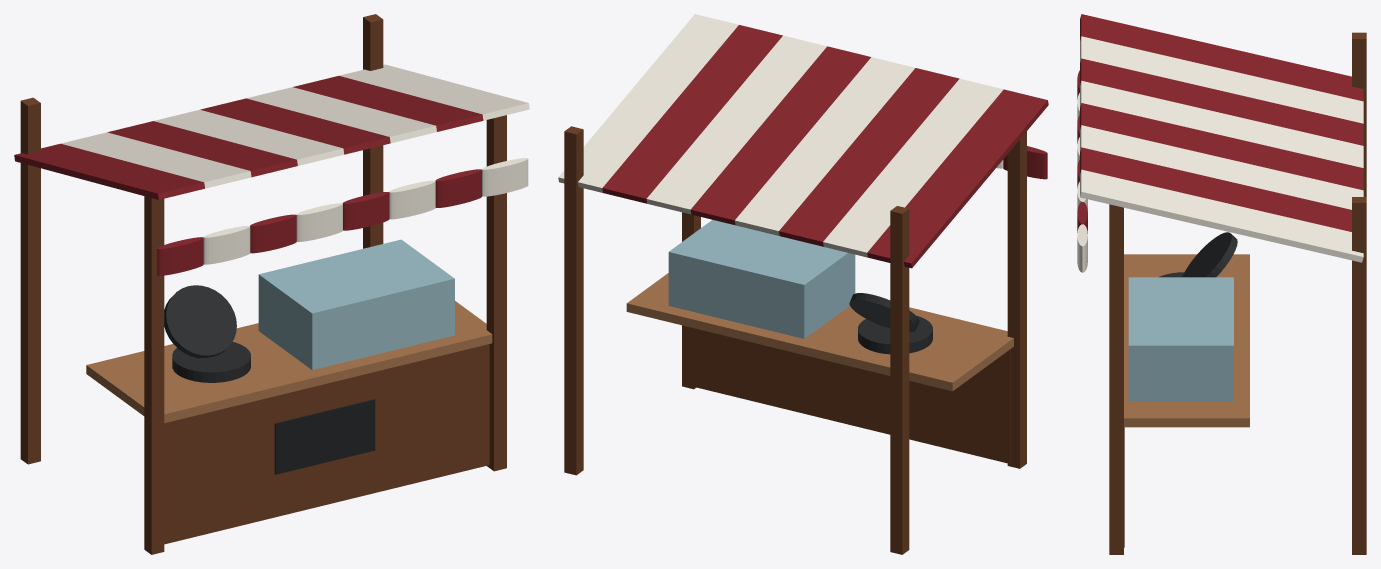
The model's file is market-stall-stroopwafel.glb.
3 renders of one model, left to right at view 1: azimuth 30°, elevation 25°; view 2: azimuth 150°, elevation 25°; view 3: azimuth 270°, elevation 25°, orthographic. The views are drawn at different scales.
Visible parts, largest first — view 1: Cube.005, Cube.006, Cube.004, Cube.001, Cube, Cube.002, Cube.007, Cube.008, Cylinder.001, Cube.012, Cube.011, Cube.013 (+14 smaller); view 2: Cube.005, Cube.006, Cube.004, Cube.011, Cube.014, Cube.012, Cube.013, Cube.010, Cube.008, Cube.009, Cube.015, Cube.003 (+6 smaller); view 3: Cube.006, Cube.004, Cube.015, Cube.009, Cube.010, Cube.011, Cube.012, Cube.008, Cube.013, Cube.014, Cube.003, Cube.002 (+3 smaller).
Part boxes in pixels (bbox=[...]): Cube.005: bbox=[164, 344, 489, 544]; Cube.006: bbox=[258, 239, 454, 370]; Cube.004: bbox=[86, 301, 492, 423]; Cube.001: bbox=[20, 97, 40, 464]; Cube: bbox=[144, 196, 164, 554]; Cube.002: bbox=[486, 115, 506, 471]; Cube.007: bbox=[274, 399, 375, 474]; Cube.008: bbox=[14, 143, 204, 199]; Cylinder.001: bbox=[164, 285, 236, 358]; Cube.012: bbox=[200, 98, 390, 154]; Cube.011: bbox=[154, 109, 344, 165]; Cube.013: bbox=[247, 87, 436, 143]; Cube.005: bbox=[690, 327, 1010, 463]; Cube.006: bbox=[668, 220, 855, 338]; Cube.004: bbox=[626, 273, 1013, 391]; Cube.011: bbox=[734, 57, 915, 235]; Cube.014: bbox=[602, 25, 782, 203]; Cube.012: bbox=[690, 46, 870, 224]; Cube.013: bbox=[646, 35, 826, 214]; Cube.010: bbox=[779, 68, 959, 246]; Cube.008: bbox=[867, 89, 1048, 268]; Cube.009: bbox=[823, 78, 1003, 257]; Cube.015: bbox=[558, 14, 738, 192]; Cube.003: bbox=[564, 126, 583, 475]; Cube.006: bbox=[1128, 277, 1233, 401]; Cube.004: bbox=[1124, 254, 1249, 427]; Cube.015: bbox=[1080, 169, 1363, 262]; Cube.009: bbox=[1080, 36, 1363, 123]; Cube.010: bbox=[1080, 58, 1363, 145]; Cube.011: bbox=[1080, 80, 1363, 167]; Cube.012: bbox=[1080, 103, 1363, 190]; Cube.008: bbox=[1080, 14, 1363, 101]; Cube.013: bbox=[1080, 125, 1363, 209]; Cube.014: bbox=[1080, 147, 1351, 231]; Cube.003: bbox=[1352, 197, 1366, 554]; Cube.002: bbox=[1109, 204, 1123, 554].
Bounding box in the file's own units: 2.6 × 2.5 × 1.79.
